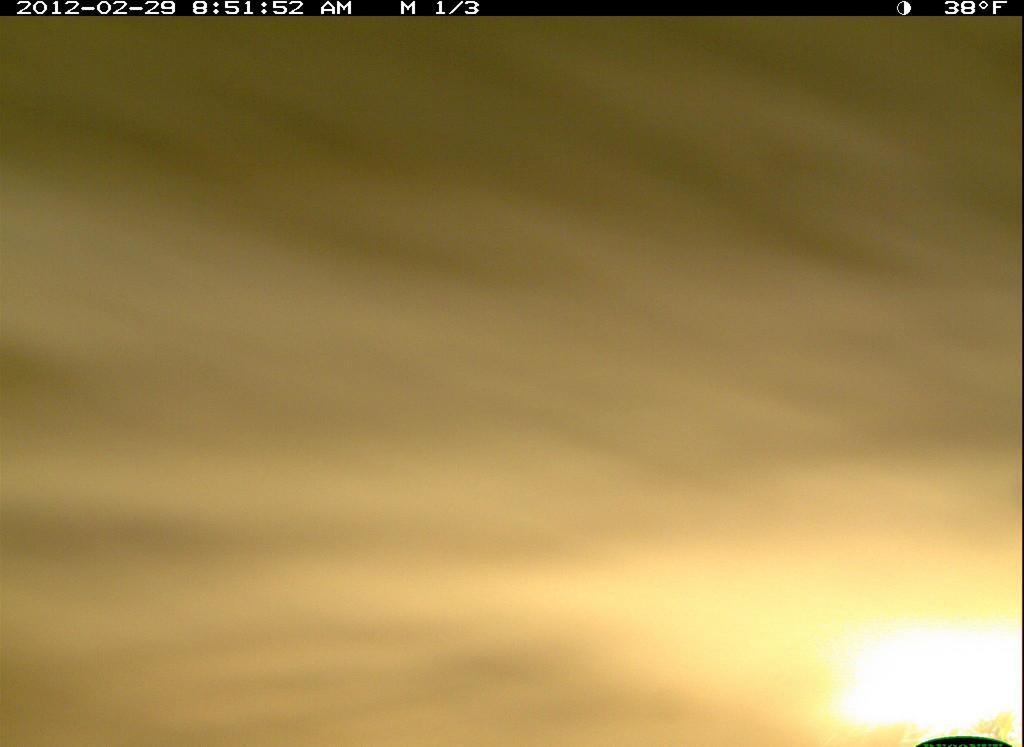coyote: (1, 21, 1024, 747)
